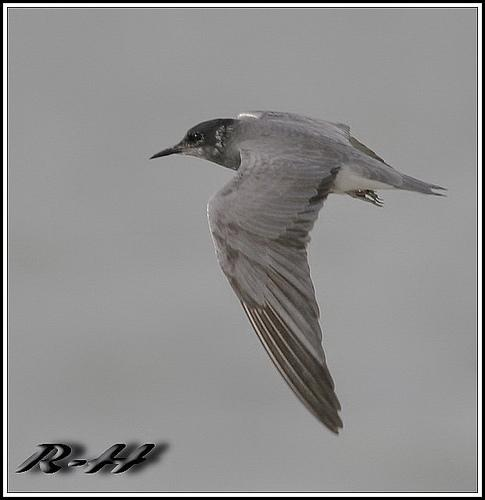bird: (148, 108, 448, 444)
